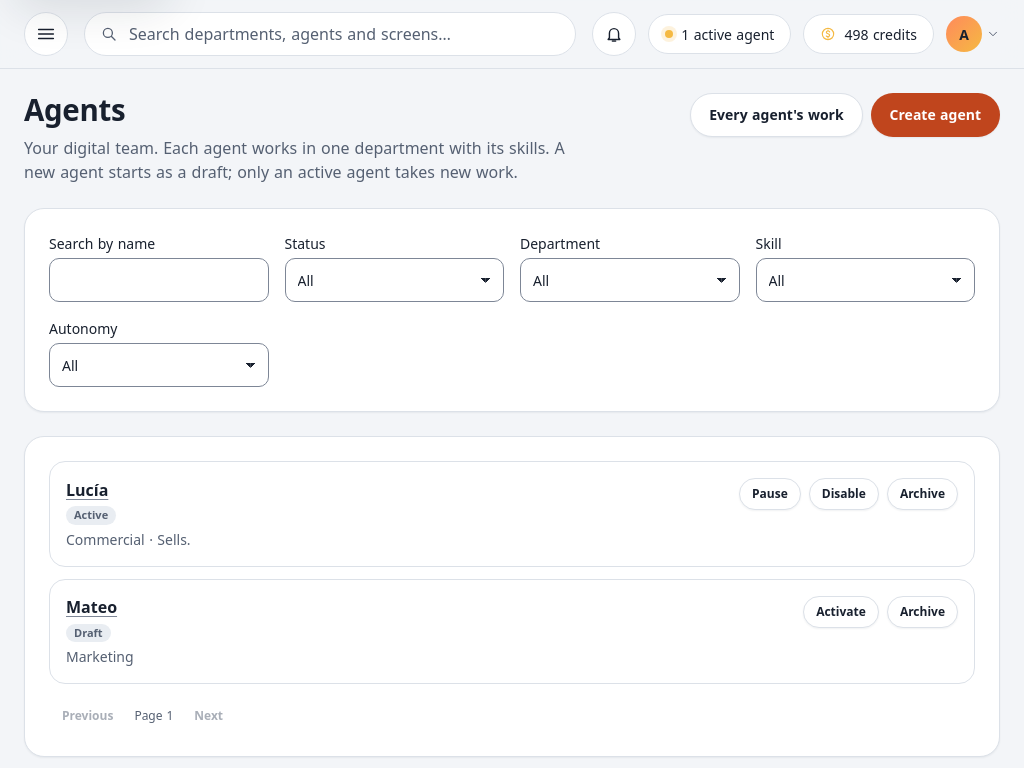
Test: Agents (ADR-0025, ADR-0062) › says what pausing does, and pauses with the reason only once confirmed (AE-4.1)
The width and height of the screenshot is (1024, 768).
Click the button "Pause" at (770, 494), box [739, 478, 801, 510]
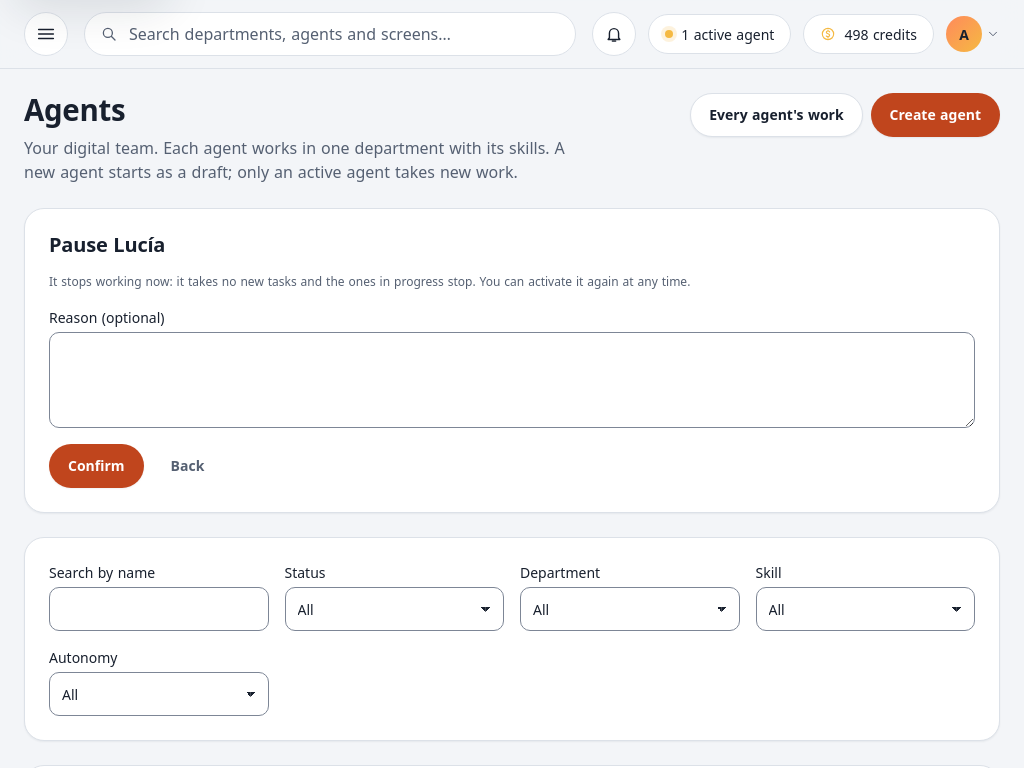
Expected: the heading "Pause Lucía" is shown, [49, 231, 165, 258]
Expected: the text "the ones in progress stop" is shown, [49, 273, 690, 290]
Type "Vacaciones" into the text box labelled "Reason (optional)" at (512, 380), box [49, 332, 975, 428]
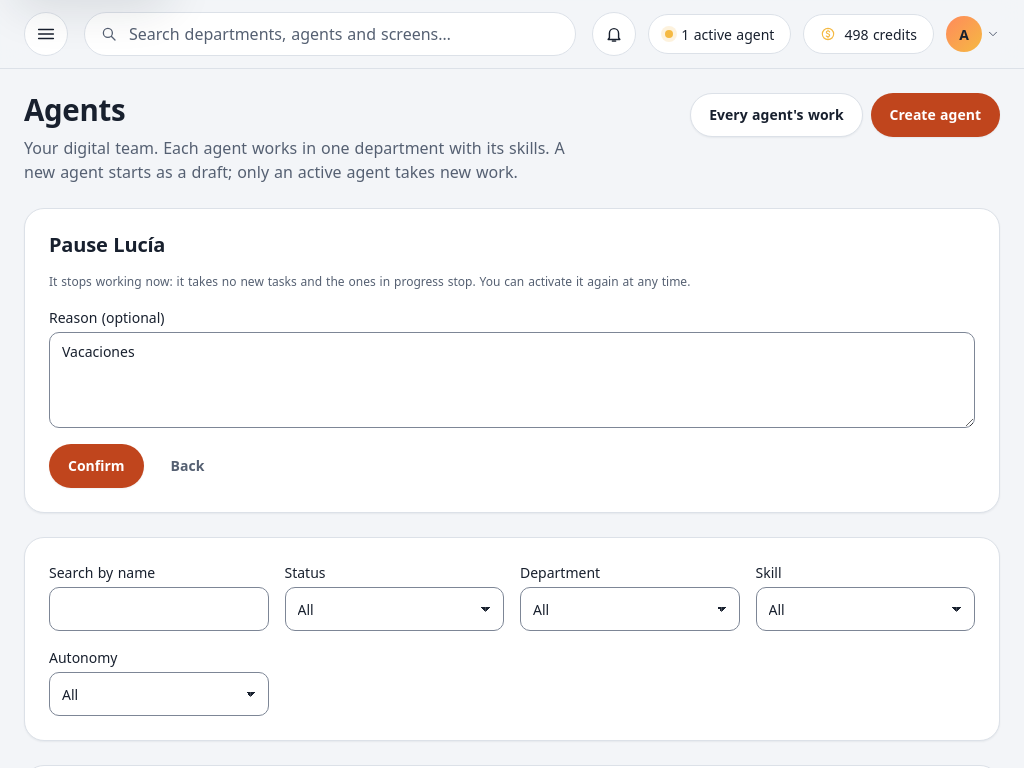
Click the button "Confirm" at (96, 466), box [49, 444, 144, 488]
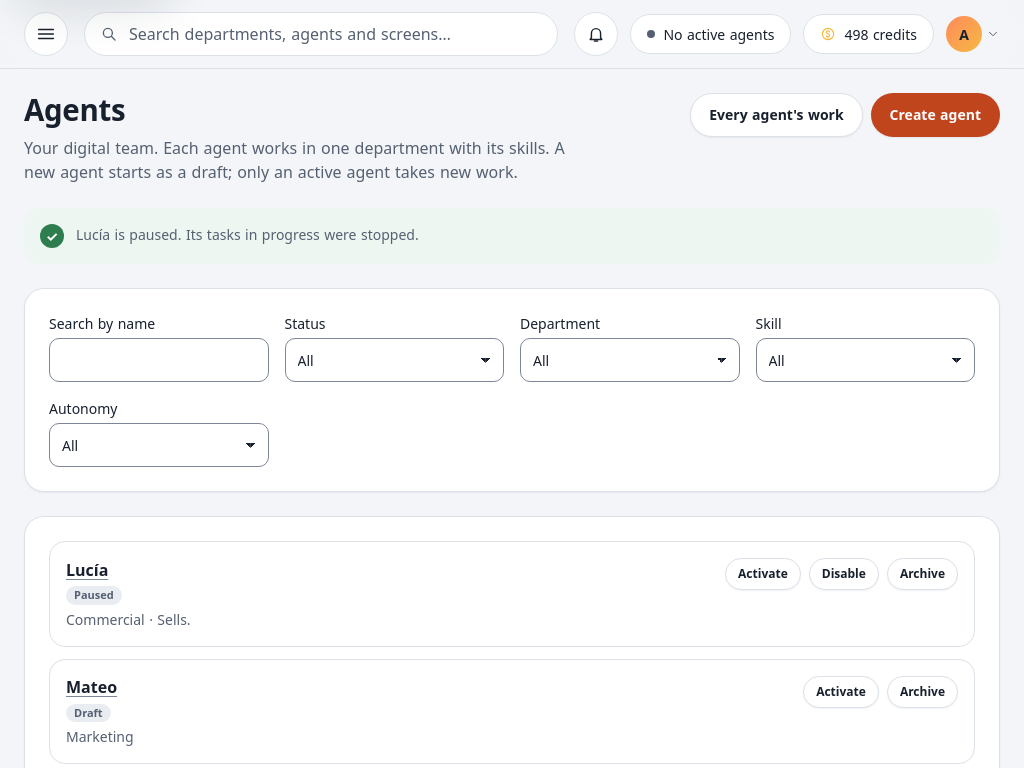
Expected: the text "Lucía is paused. Its tasks in progress were stopped." is shown, [76, 224, 419, 245]
